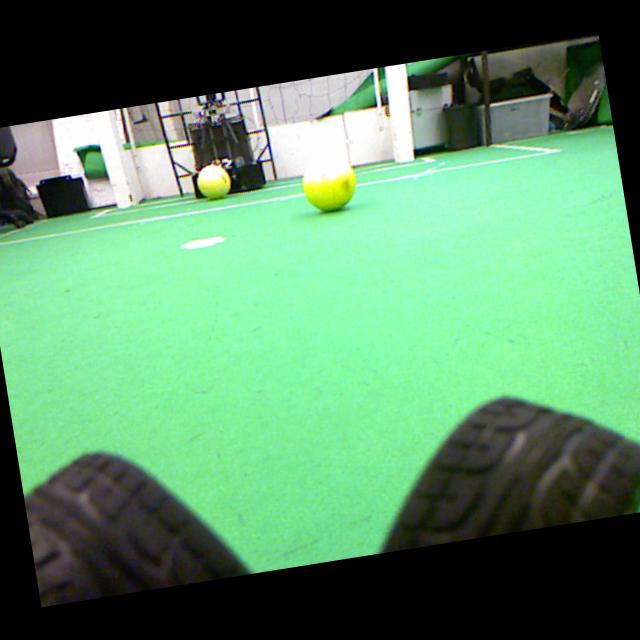ball: (303, 156, 357, 211), (197, 165, 231, 198)
goal: (92, 110, 133, 209), (389, 63, 414, 163)
robot: (188, 92, 266, 196)
